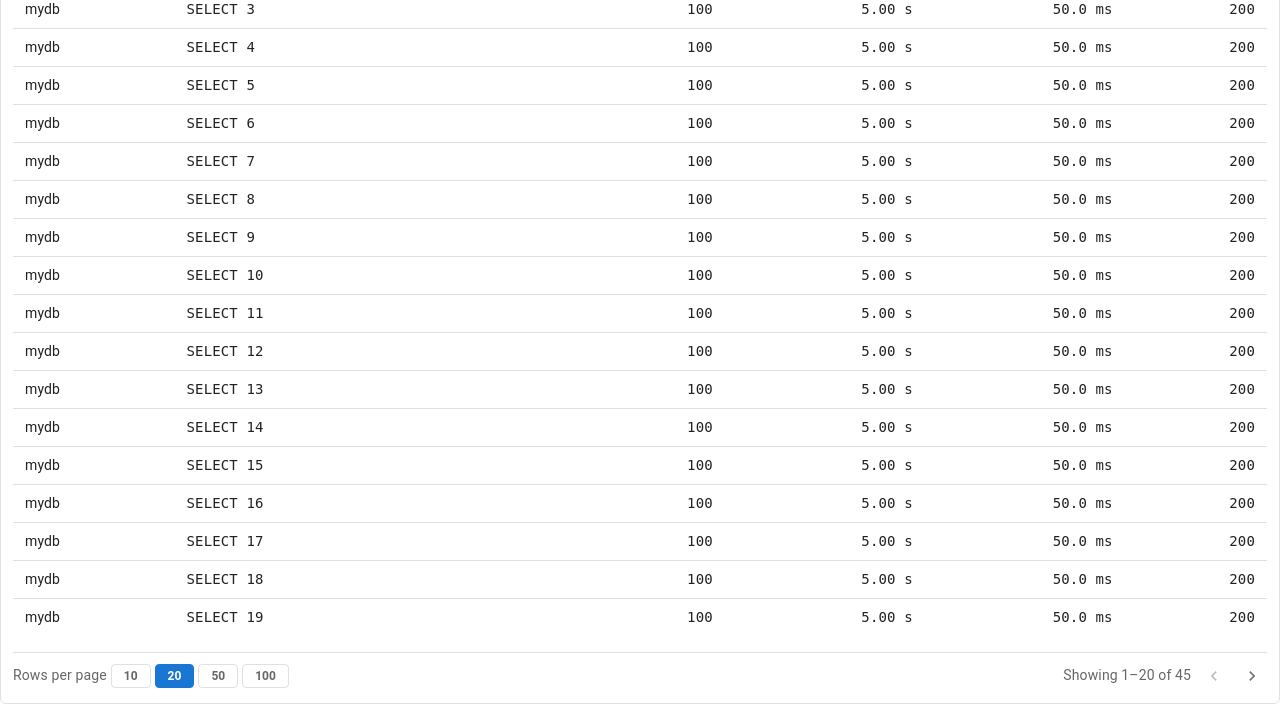
it: TopQueriesSection › pages forward and back with the pager controls
(page scrolled)
expect the text "Showing 1–20 of 45" is shown: met, box [1063,665,1191,686]
Click the button named "Next page of queries".
click(1252, 676)  # box [1237,661,1267,691]
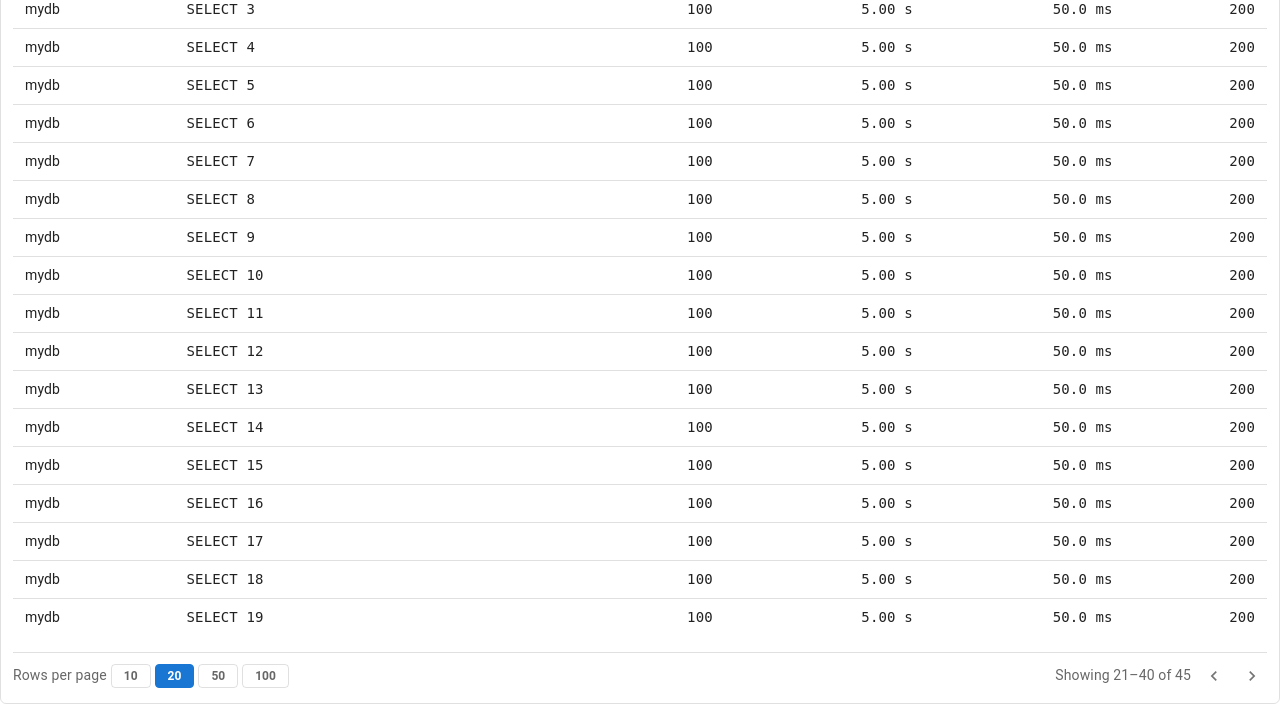
expect the text "Showing 21–40 of 45" is shown: met, box [1055,665,1191,686]
Click the button named "Previous page of queries".
click(1214, 676)  # box [1199,661,1229,691]
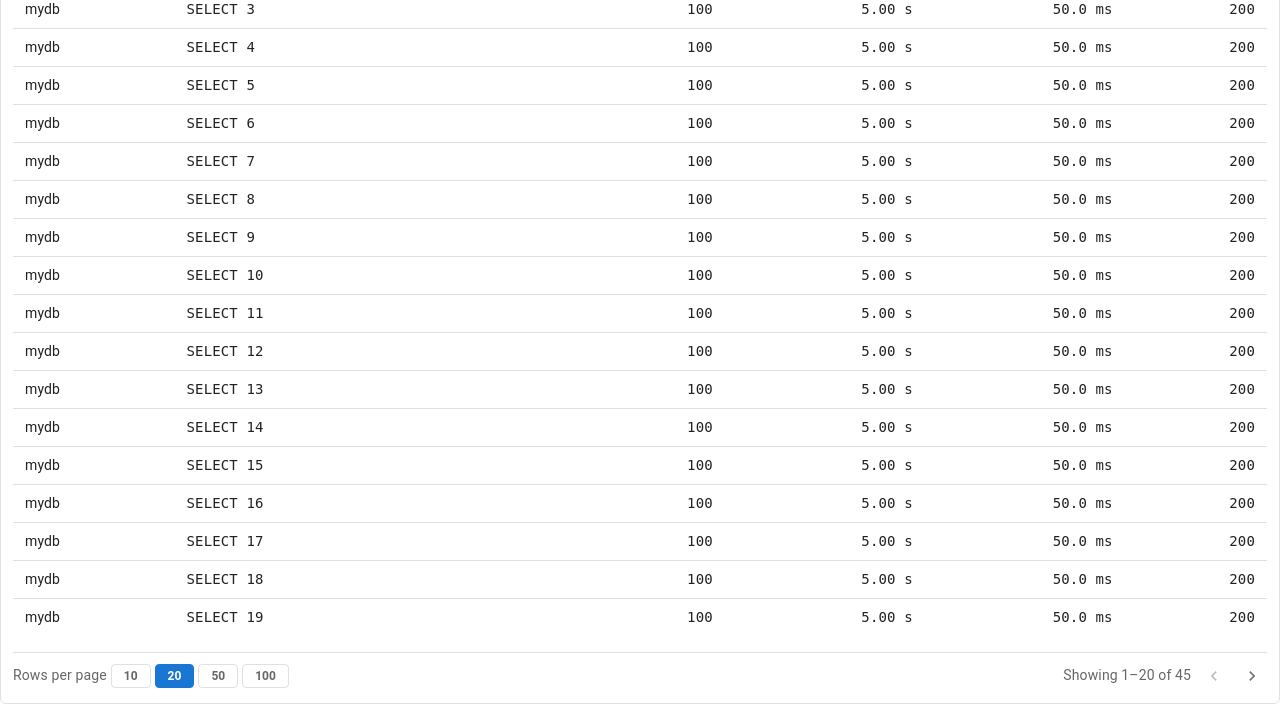
expect the text "Showing 1–20 of 45" is shown: met, box [1063,665,1191,686]
